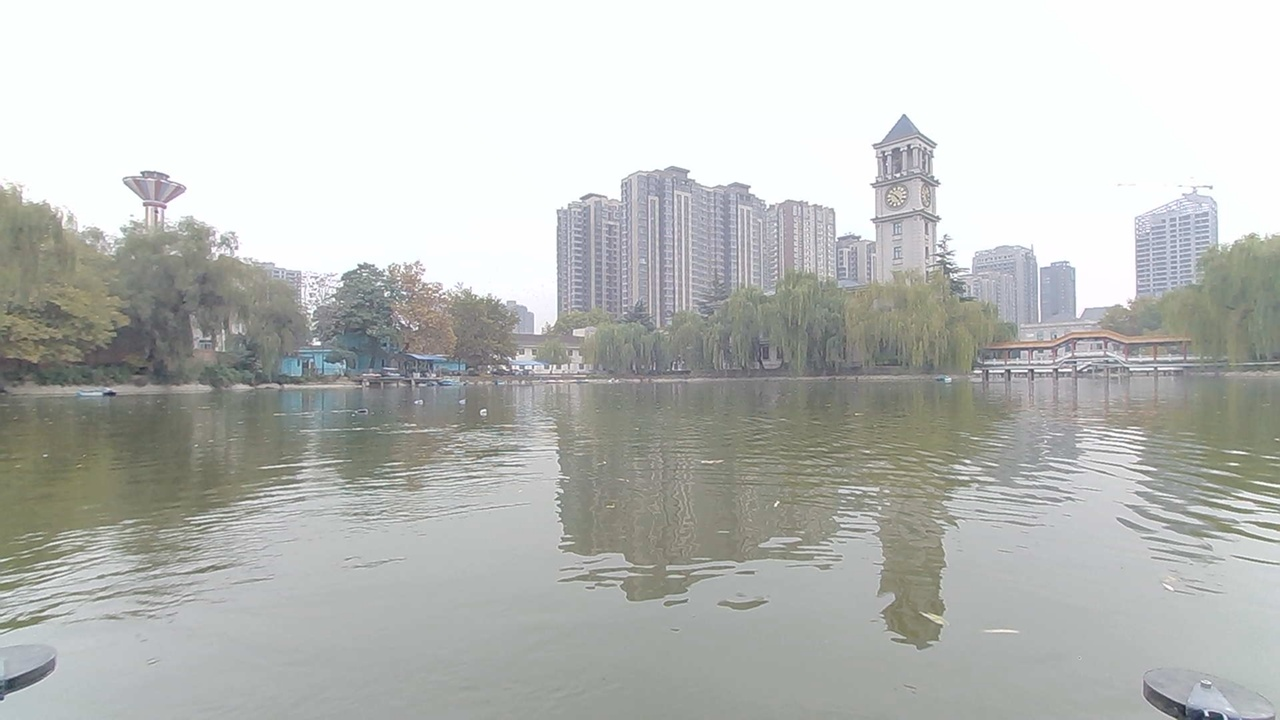bottle: (479, 399, 514, 428), (347, 401, 381, 430), (450, 386, 486, 410), (410, 387, 438, 412)
